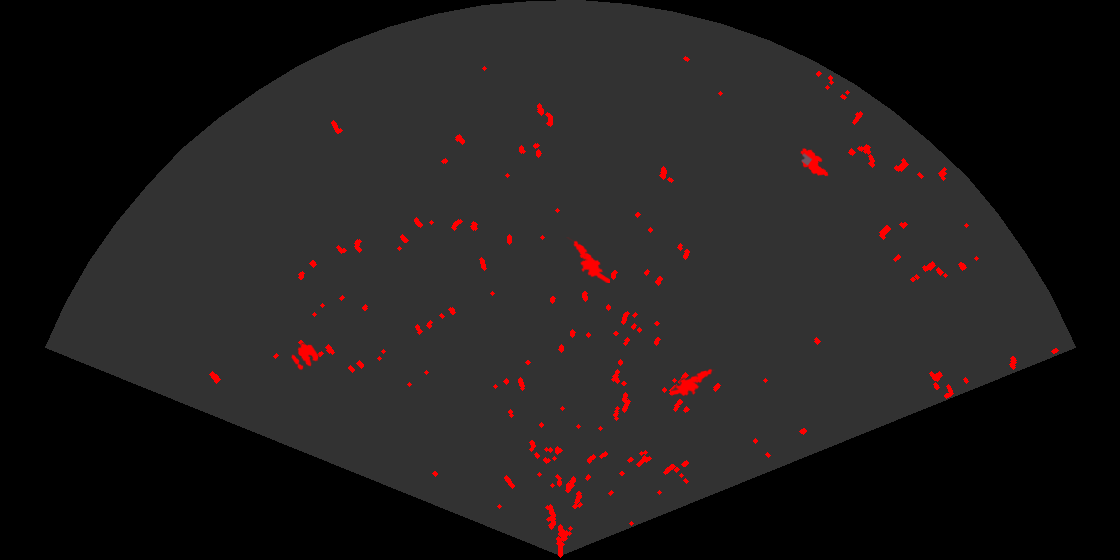AUV: (799, 146, 830, 178)
ball: (290, 342, 320, 372)
frogman: (565, 237, 610, 283), (671, 367, 716, 398)
